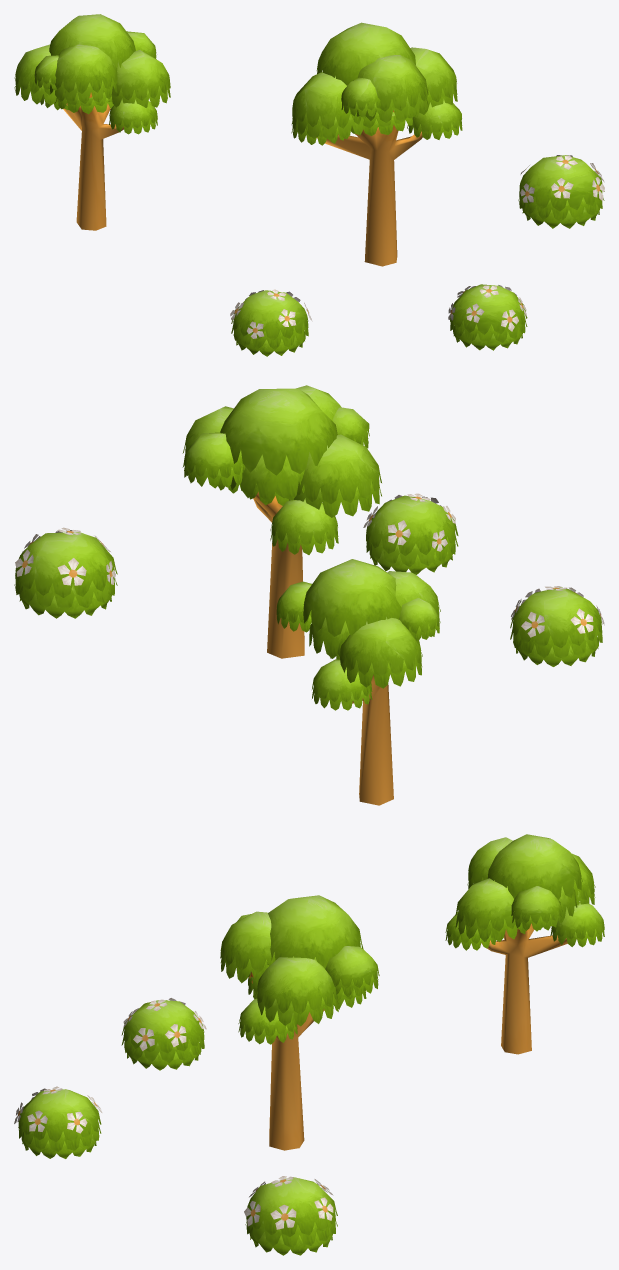
File: Layout_OutdoorArrangement01.gltf
3 renders of one model, top to bottom at view 1: azimuth 30°, elevation 25°; view 2: azimuth 150°, elevation 25°; view 3: azimuth 270°, elevation 25°, orthographic. The views are drawn at different scales.
Visible parts, largest first — view 1: Obj_Tree.001, Obj_Tree, Obj_Bush.001, Obj_Bush, Obj_Bush.002; view 2: Obj_Tree.001, Obj_Tree, Obj_Bush.001, Obj_Bush.002, Obj_Bush; view 3: Obj_Tree.001, Obj_Tree, Obj_Bush.001, Obj_Bush.002, Obj_Bush.
Boxes of the visible parts, x1,y1,x2,y2 form: Obj_Tree.001: (291, 22, 462, 266); Obj_Tree: (14, 14, 170, 230); Obj_Bush.001: (518, 155, 604, 228); Obj_Bush: (230, 289, 312, 356); Obj_Bush.002: (448, 284, 527, 350); Obj_Tree.001: (182, 385, 381, 658); Obj_Tree: (276, 559, 440, 805); Obj_Bush.001: (14, 527, 117, 618); Obj_Bush.002: (363, 493, 458, 574); Obj_Bush: (510, 586, 604, 666); Obj_Tree.001: (220, 895, 379, 1150); Obj_Tree: (445, 834, 604, 1054); Obj_Bush.001: (244, 1176, 337, 1255); Obj_Bush.002: (14, 1086, 102, 1158); Obj_Bush: (121, 998, 206, 1070).
Size of what is drawn, in the model's own units: 14.67 by 6.93 by 15.36.
Materials: 1 (1 with a texture image).
